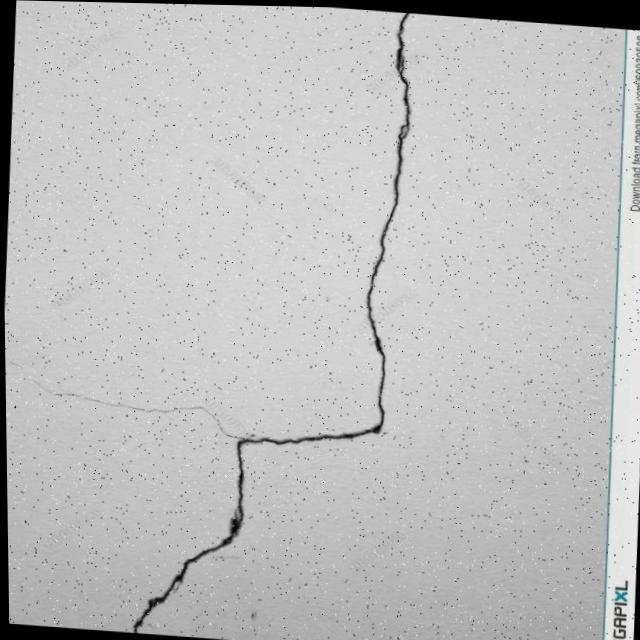Crack: (106, 2, 442, 640), (4, 351, 125, 432)
